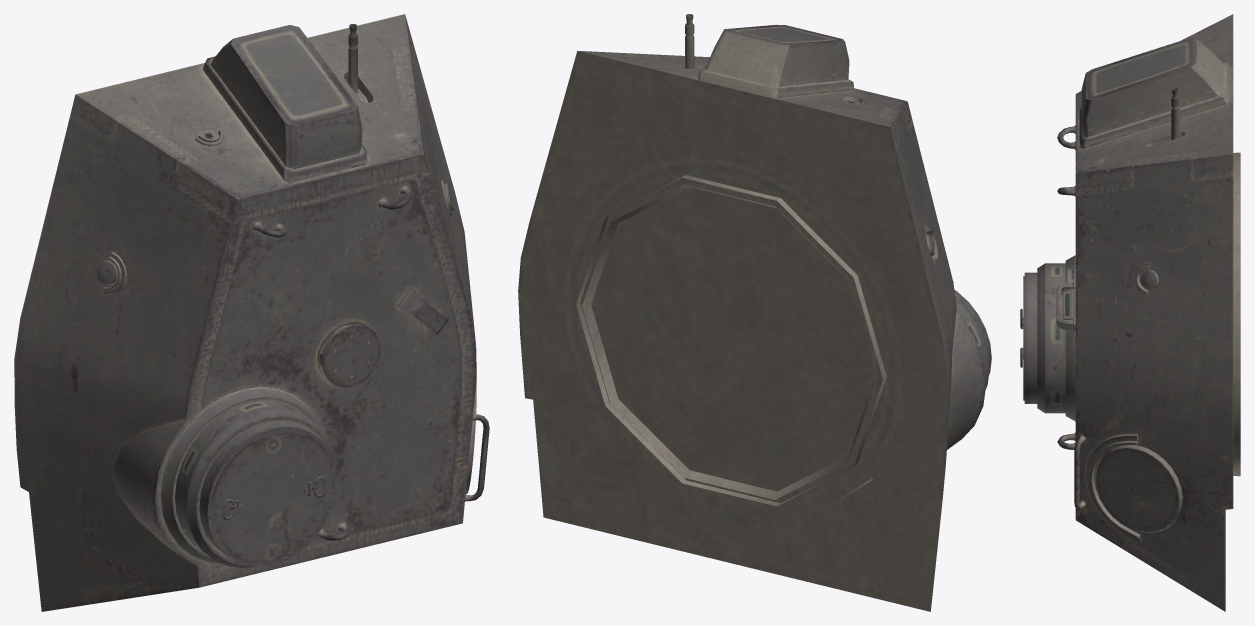
Rendered from Turret_01.glb.
3 views of the same model, side by side, from view 1: azimuth 30°, elevation 25°; view 2: azimuth 150°, elevation 25°; view 3: azimuth 270°, elevation 25° (orthographic). The views are drawn at different scales.
Visible parts, largest first — view 1: set_0_group_0; view 2: set_0_group_0; view 3: set_0_group_0.
Boxes of the visible parts, left/top/right/bottom form: set_0_group_0: left=14, top=14, right=489, bottom=611; set_0_group_0: left=518, top=14, right=991, bottom=611; set_0_group_0: left=1020, top=14, right=1240, bottom=611.
Bounding box in the file's own units: 2.03 × 2.33 × 0.9819.
1 material, 1 textured.
